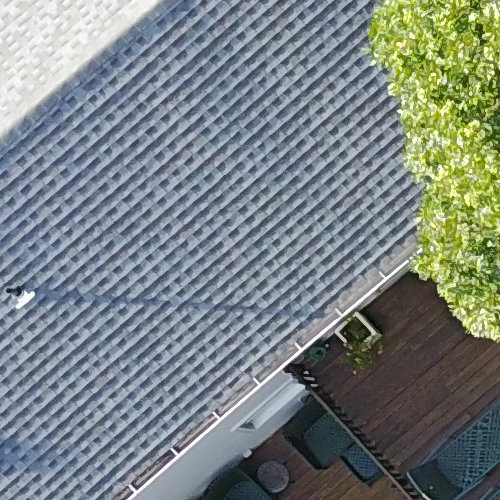flower pot: (331, 313, 385, 370)
porch: (179, 216, 499, 500)
